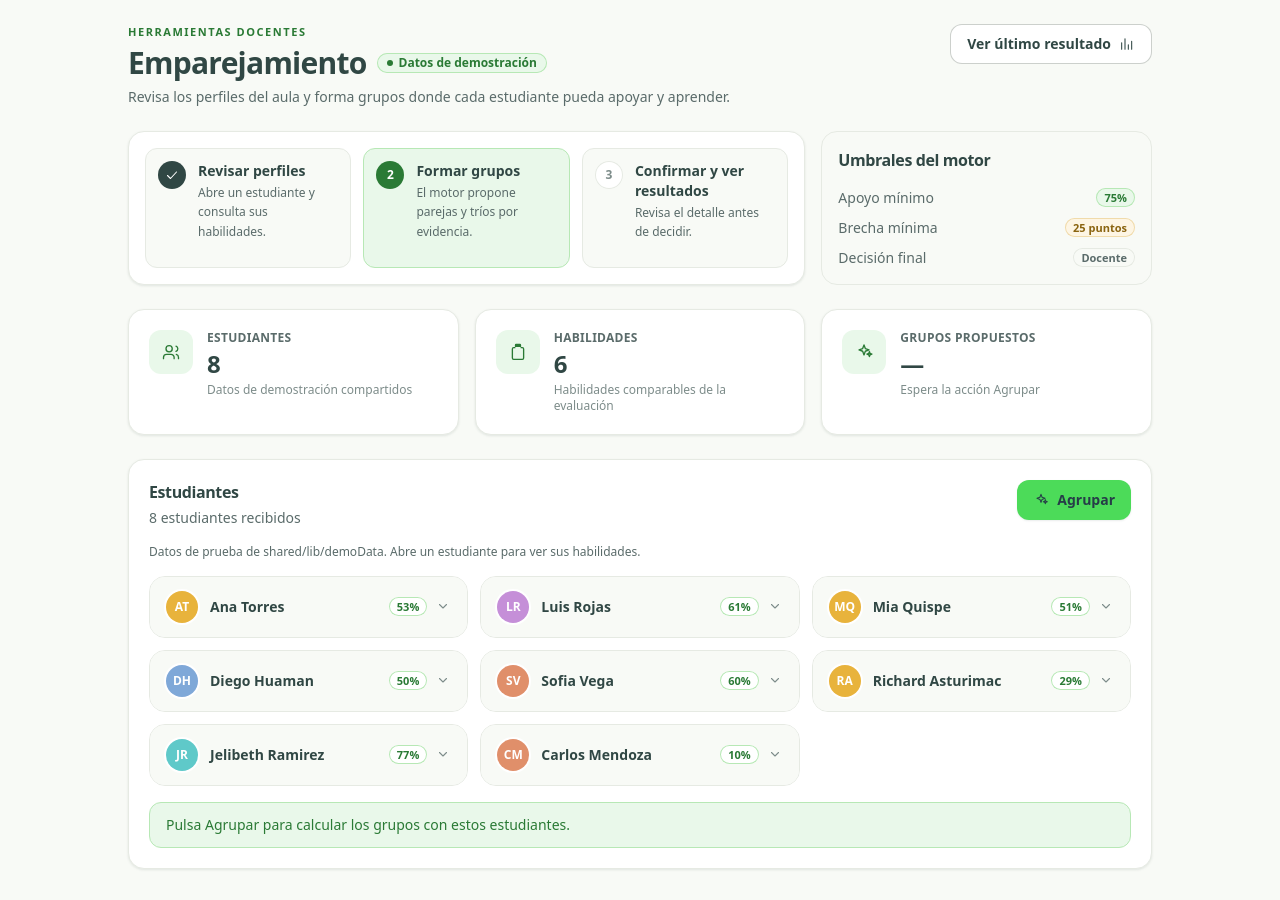
Test case: abre la prueba aislada, espera Agrupar y navega a resultados
Expected: the heading "Emparejamiento" is shown, x1=128 y1=44 x2=366 y2=80
Expected: the heading "AT Ana Torres 53%" is shown, x1=150 y1=576 x2=467 y2=636
Step 1. Click the button "Agrupar" → (1074, 500), box x1=1017 y1=480 x2=1131 y2=520
(page scrolled)
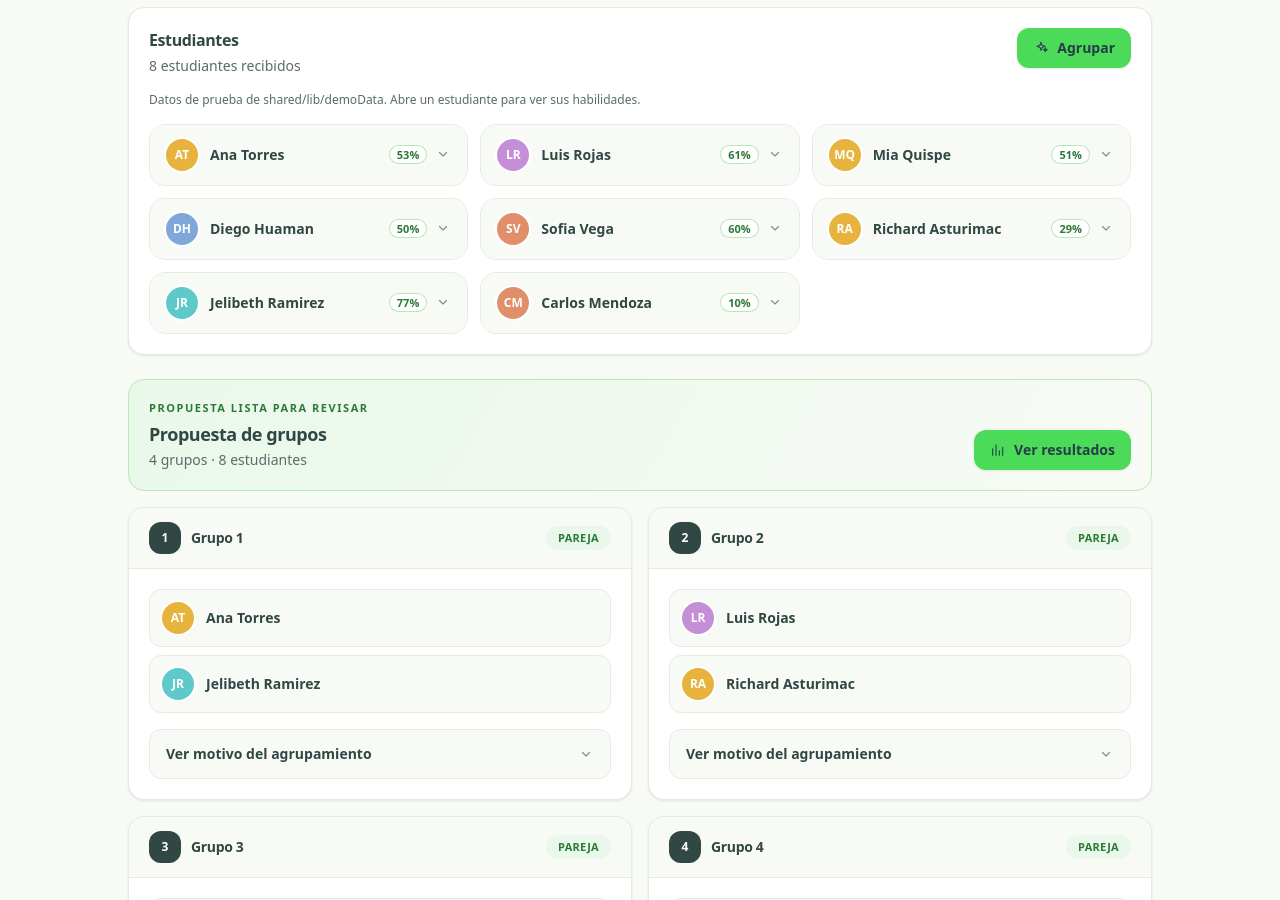
Step 2. Click the link "Ver resultados" → (1053, 450), box x1=974 y1=430 x2=1131 y2=470
(page scrolled)
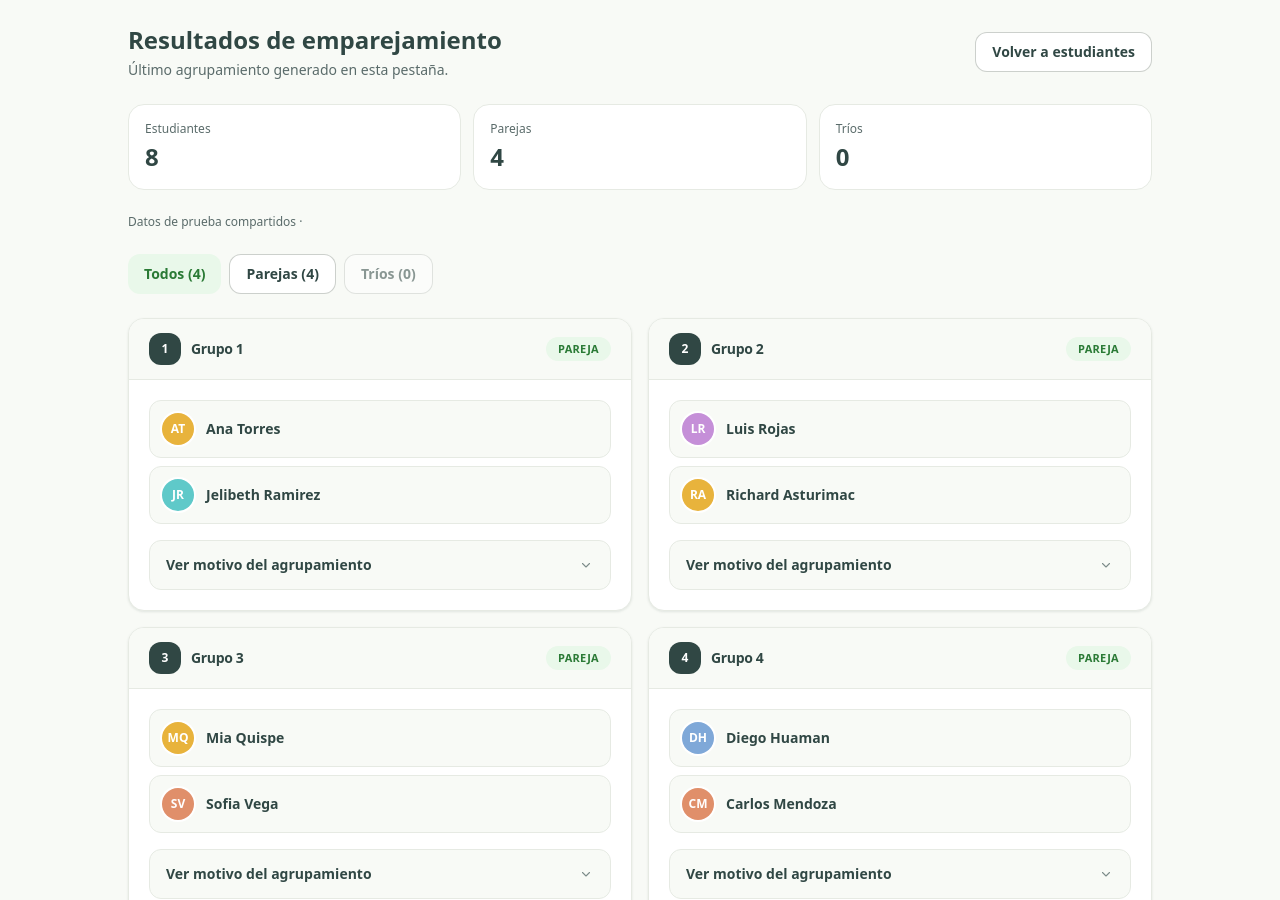
Expected: the heading "Resultados de emparejamiento" is shown, x1=128 y1=24 x2=502 y2=56
